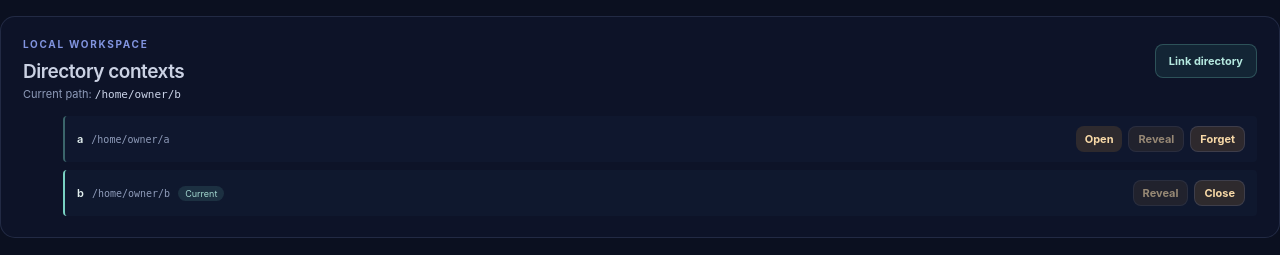
Test: Correction 3 — production shape (onStateChange omitted): Forget and Locate replacement actually run › a failed Forget still surfaces the action error (manager semantics unchanged by the fix)
Check: the button with aria-label "Open a" is shown, box x1=1076 y1=126 x2=1122 y2=152
Click the button with aria-label "Forget a": (1218, 139) x1=1190 y1=126 x2=1245 y2=152
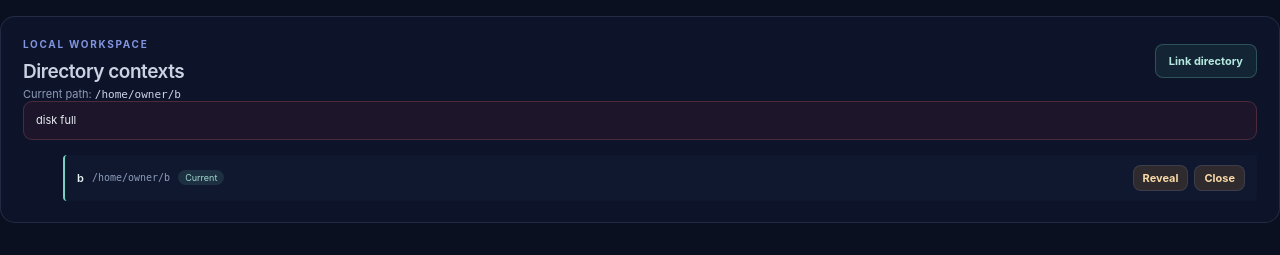
Check: the message reads "disk full", box x1=36 y1=113 x2=76 y2=127
